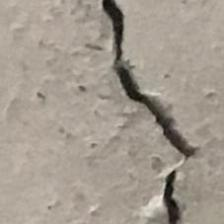Crack: (90, 0, 214, 224)
